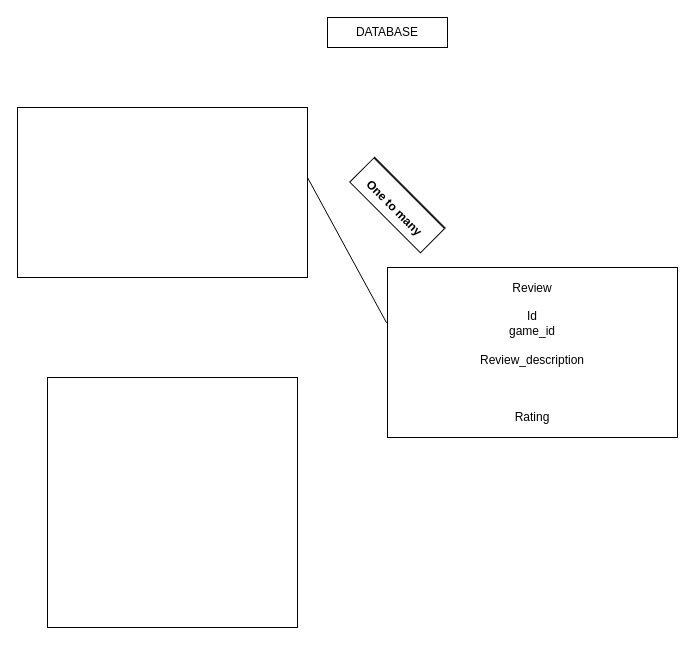
Image size: 695x645. Some labels were removed from this diagram. The shapes that lost their labels are listed below. From the top down, each one's box as (x1, y1, x2, y2) in pixels, then its label:
(16, 106, 308, 278): GAMES Id Name Description Release year image type Review - 2 start Console type
(46, 376, 298, 628): User Name Email Token
